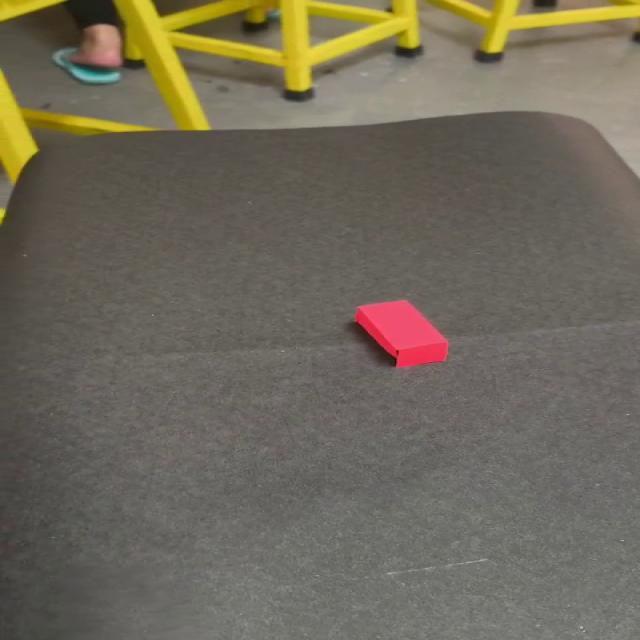red block: (352, 298, 449, 368)
